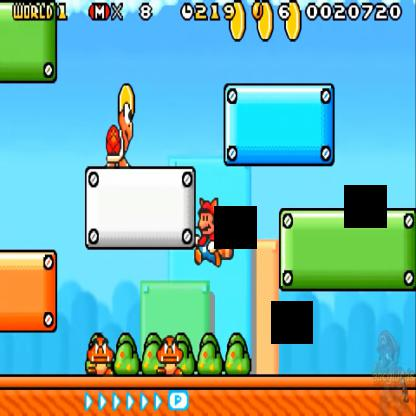Goomba: (155, 329, 185, 373), (88, 329, 114, 378)
Mario: (191, 196, 222, 268)
koopa: (104, 104, 133, 166)
moneda: (256, 0, 272, 52), (283, 0, 303, 40), (228, 0, 246, 42), (119, 81, 137, 106), (253, 0, 262, 20)
